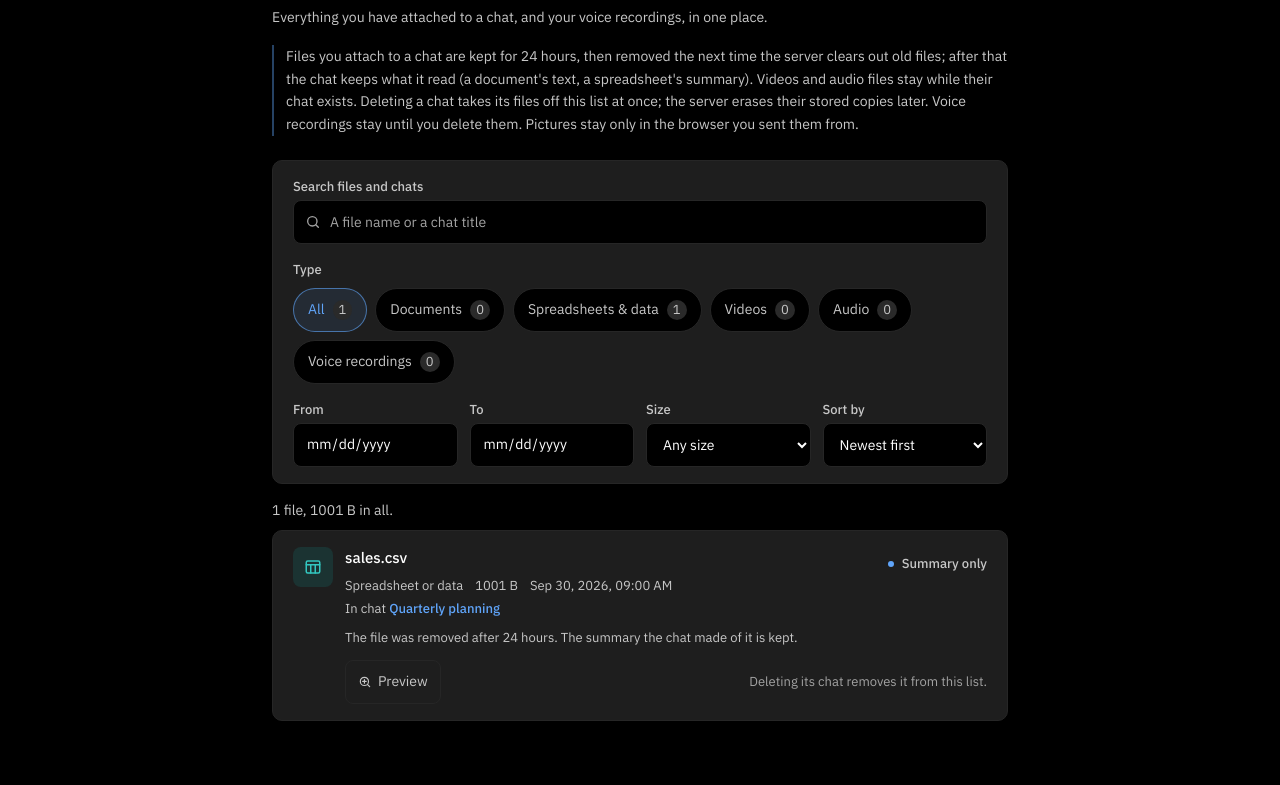
Test: each row › previews a spreadsheet summary after its bytes are gone
(page scrolled)
Click the button named "Preview sales.csv" at coordinates (393, 682), box [345,660,441,704]
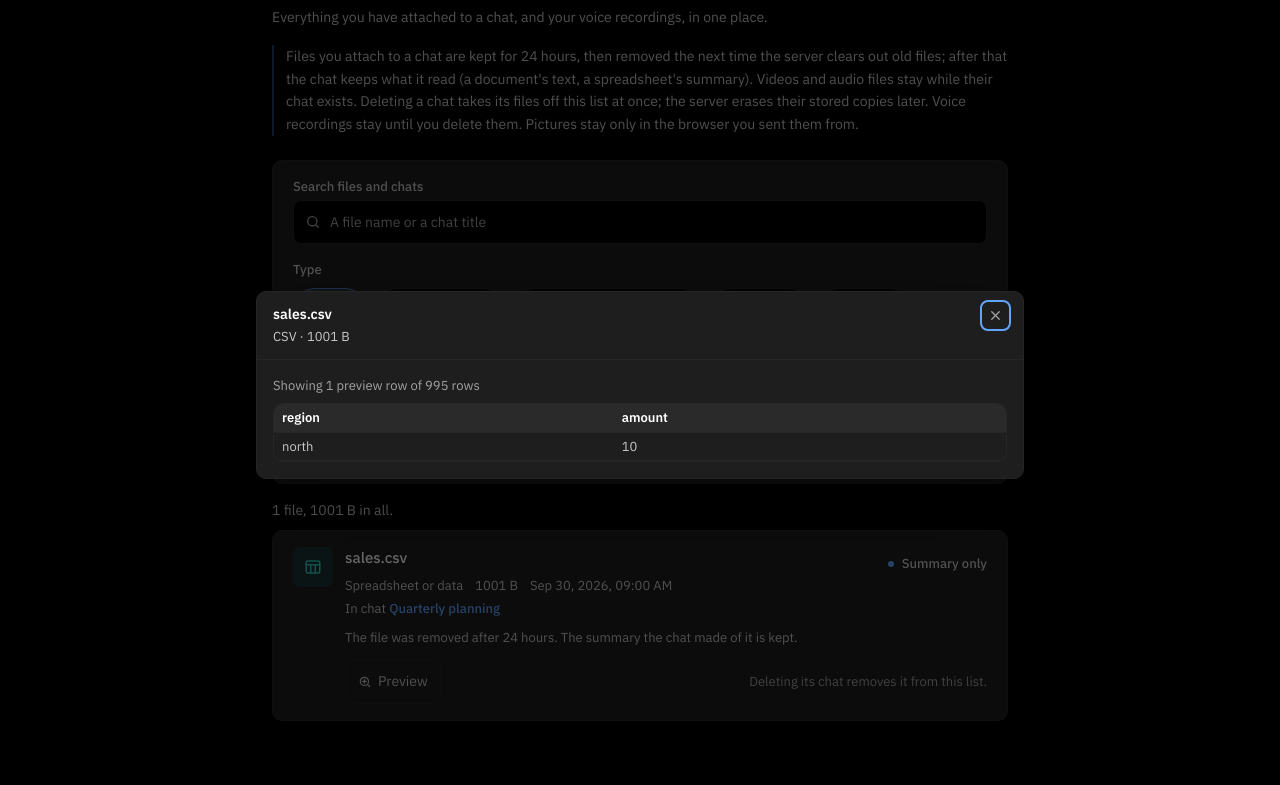
Expected: the text "north" is shown, [274,432,614,461]
Expected: the text "Showing 1 preview row of 995 rows" is shown, [273,377,480,394]
